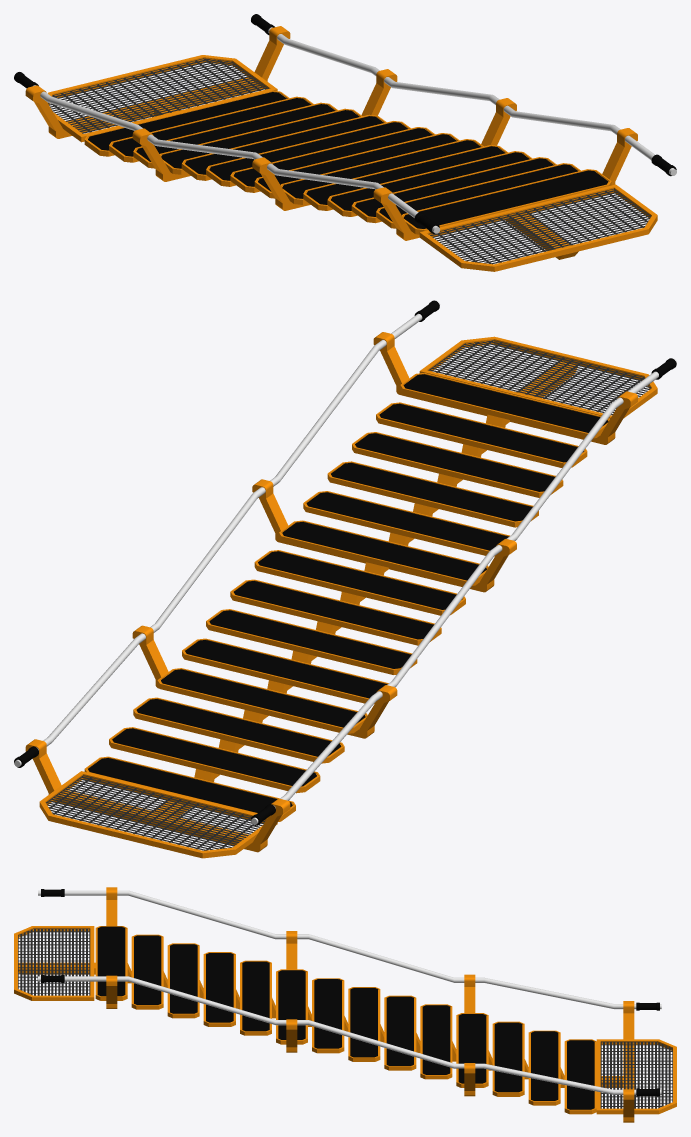
File: ramp_scifi_floor.fbx
3 renders of one model, top to bottom at view 1: azimuth 30°, elevation 25°; view 2: azimuth 150°, elevation 25°; view 3: azimuth 270°, elevation 25°, orthographic. The views are drawn at different scales.
Visible parts, largest first — view 1: Cube.014, Cube.010, Cube.017, Cube.015, Cylinder.008, Cube.018, Cube.012, Cylinder.011, Cube; view 2: Cube.014, Cube.010, Cylinder.008, Cube.015, Cube.017, Cube, Cube.012, Cube.018, Cylinder.011; view 3: Cube.014, Cylinder.008, Cube.017, Cube.010, Cube.015, Cube, Cube.018, Cube.012, Cylinder.011.
Boxes of the visible parts, <box> form: Cube.014: <box>84,90,611,234</box>; Cube.010: <box>25,26,637,240</box>; Cube.017: <box>428,188,651,264</box>; Cube.015: <box>48,58,268,133</box>; Cylinder.008: <box>33,27,676,233</box>; Cube.018: <box>419,184,657,271</box>; Cube.012: <box>47,55,277,142</box>; Cylinder.011: <box>14,14,676,233</box>; Cube: <box>154,103,578,259</box>; Cube.014: <box>84,373,609,821</box>; Cube.010: <box>25,332,637,852</box>; Cylinder.008: <box>14,300,676,824</box>; Cube.015: <box>46,775,265,850</box>; Cube.017: <box>428,340,650,414</box>; Cube: <box>154,360,577,817</box>; Cube.012: <box>39,771,277,858</box>; Cube.018: <box>419,336,657,418</box>; Cylinder.011: <box>14,300,676,825</box>; Cube.014: <box>95,926,596,1114</box>; Cylinder.008: <box>38,890,661,1094</box>; Cube.017: <box>18,928,90,995</box>; Cube.010: <box>106,887,634,1122</box>; Cube.015: <box>600,1041,672,1108</box>; Cube: <box>18,962,623,1087</box>; Cube.018: <box>14,926,94,1000</box>; Cube.012: <box>596,1039,676,1114</box>; Cylinder.011: <box>41,889,659,1096</box>.
Bounding box in the file's own units: 917 × 700 × 2756.
